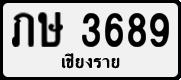letters: (37, 12, 64, 48), (11, 12, 35, 48), (103, 11, 124, 49), (80, 11, 101, 48), (126, 11, 147, 48), (149, 12, 170, 48)
province: (60, 51, 120, 70)
